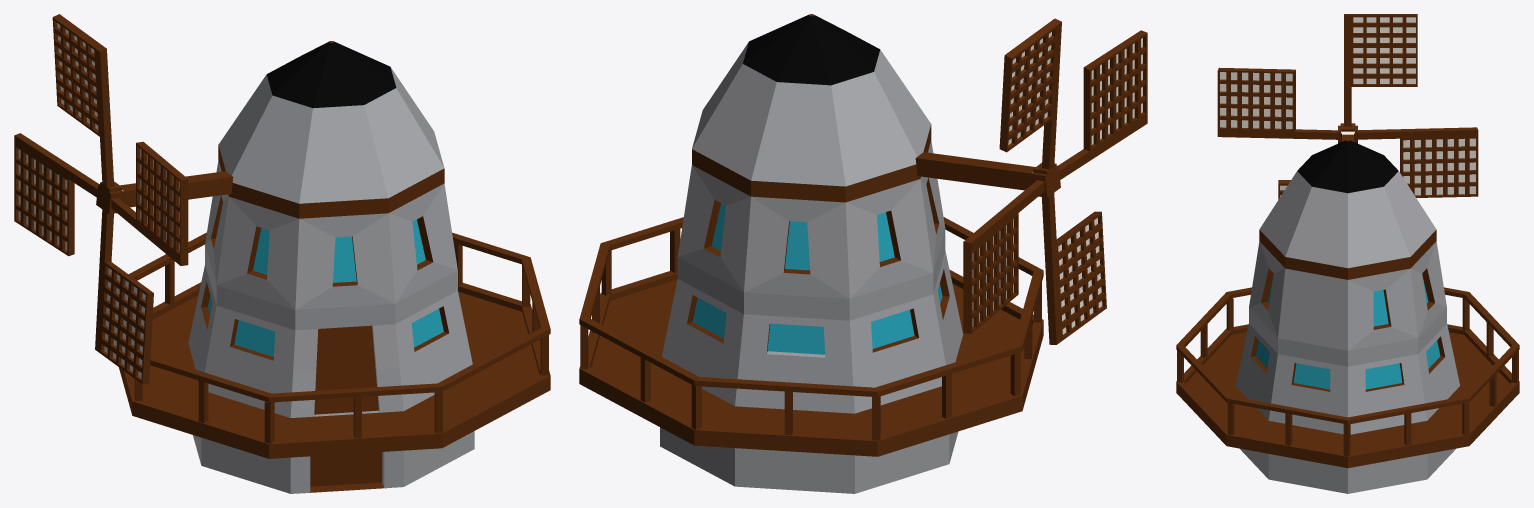
The model's file is Windmill.fbx.
The picture shows the model from 3 angles, left to right: view 1: azimuth 30°, elevation 25°; view 2: azimuth 150°, elevation 25°; view 3: azimuth 270°, elevation 25°; orthographic projection. The views are drawn at different scales.
Visible parts, largest first — view 1: Cube, Plane; view 2: Cube, Plane; view 3: Cube, Plane.
Part boxes in pixels (x1=…): Cube: x1=119, y1=41, x2=550, y2=493; Plane: x1=14, y1=14, x2=233, y2=384; Cube: x1=579, y1=14, x2=1043, y2=493; Plane: x1=915, y1=18, x2=1147, y2=344; Cube: x1=1176, y1=139, x2=1519, y2=493; Plane: x1=1217, y1=14, x2=1478, y2=199.
Bounding box in the file's own units: 1410 × 1377 × 1249.
